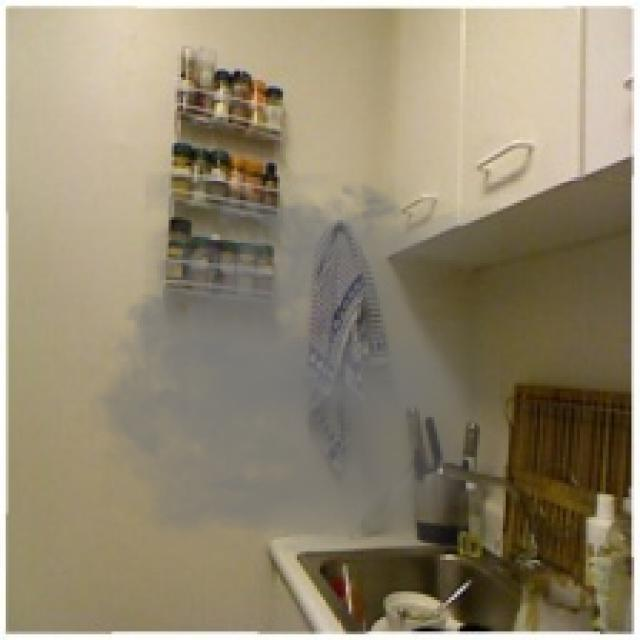Smoke: (74, 172, 500, 557)
